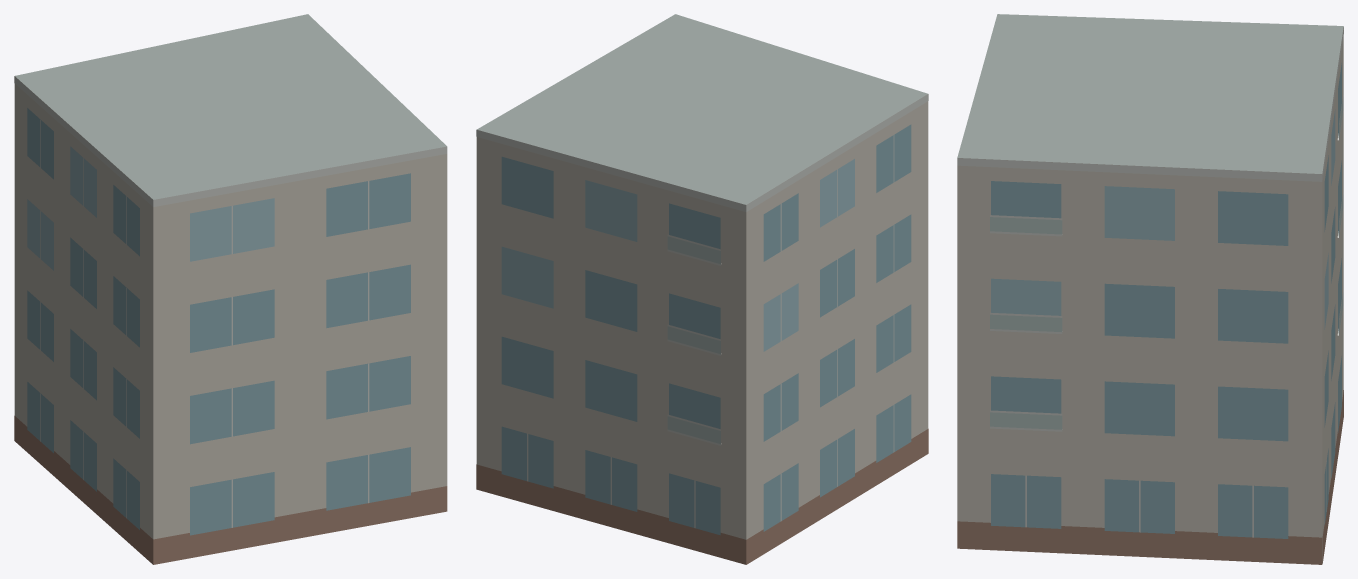
File: survey-upis-33039076.glb
The picture shows the model from 3 angles, left to right: view 1: azimuth 30°, elevation 25°; view 2: azimuth 150°, elevation 25°; view 3: azimuth 270°, elevation 25°; orthographic projection. The views are drawn at different scales.
Visible parts, largest first — view 1: survey-upis-33039076.tmp; view 2: survey-upis-33039076.tmp; view 3: survey-upis-33039076.tmp.
Boxes of the visible parts, x1,y1,x2,y2 form: survey-upis-33039076.tmp: (14,14,447,564); survey-upis-33039076.tmp: (476,14,928,564); survey-upis-33039076.tmp: (957,14,1343,564).
Size of the model in its own units: 10.73 by 12.2 by 10.95.
